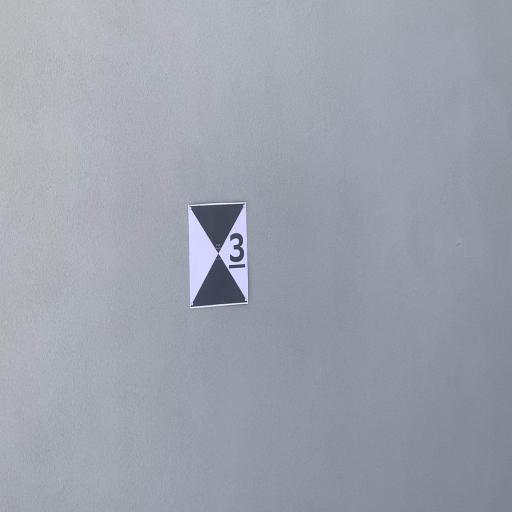target3: (188, 201, 249, 307)
